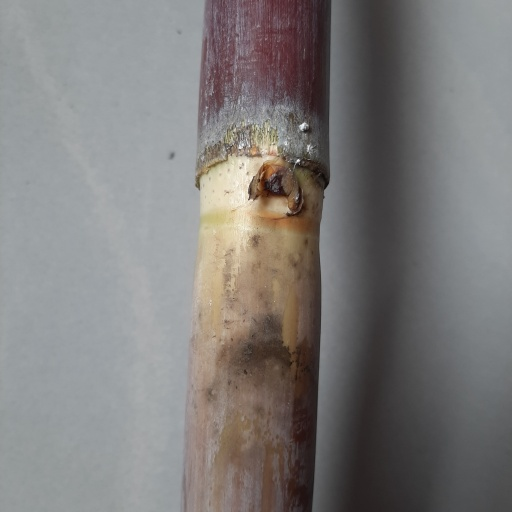Damage_Bud: (247, 163, 305, 219)
